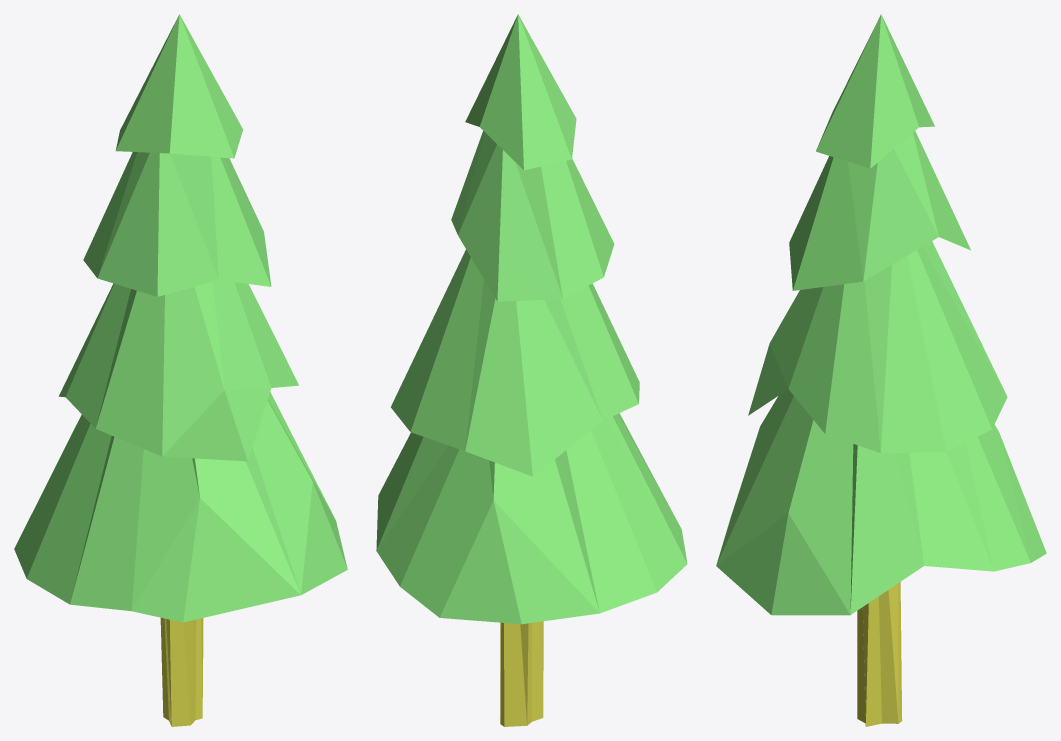
Rendered from wood.FBX.
3 views of the same model, side by side, from view 1: azimuth 30°, elevation 25°; view 2: azimuth 150°, elevation 25°; view 3: azimuth 270°, elevation 25° (orthographic).
Parts seen in each view (by area): view 1: Pine_NoSnow2; view 2: Pine_NoSnow2; view 3: Pine_NoSnow2.
Part boxes in pixels (left/top/right/bottom): Pine_NoSnow2: left=14, top=14, right=347, bottom=726; Pine_NoSnow2: left=376, top=14, right=687, bottom=726; Pine_NoSnow2: left=716, top=14, right=1046, bottom=726.
Size of the model in its own units: 4.35 by 10.18 by 4.33.
